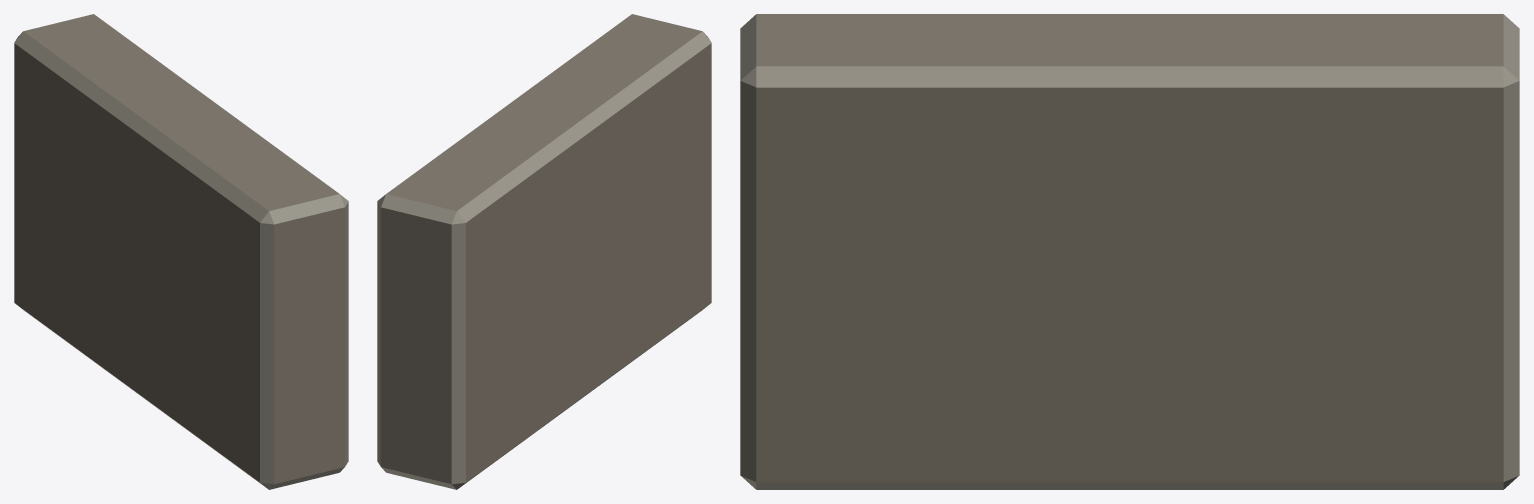
File: Wall_A_3_1.obj
3 renders of one model, left to right at view 1: azimuth 30°, elevation 25°; view 2: azimuth 150°, elevation 25°; view 3: azimuth 270°, elevation 25°, orthographic. The views are drawn at different scales.
Parts seen in each view (by area): view 1: Wall_A_3_1; view 2: Wall_A_3_1; view 3: Wall_A_3_1.
Boxes of the visible parts, box(x1,y1,x2,y2) form: Wall_A_3_1: box(14, 14, 348, 489); Wall_A_3_1: box(377, 14, 711, 489); Wall_A_3_1: box(740, 14, 1519, 489).
Size of the model in its own units: 0.4 by 1.2 by 2.
